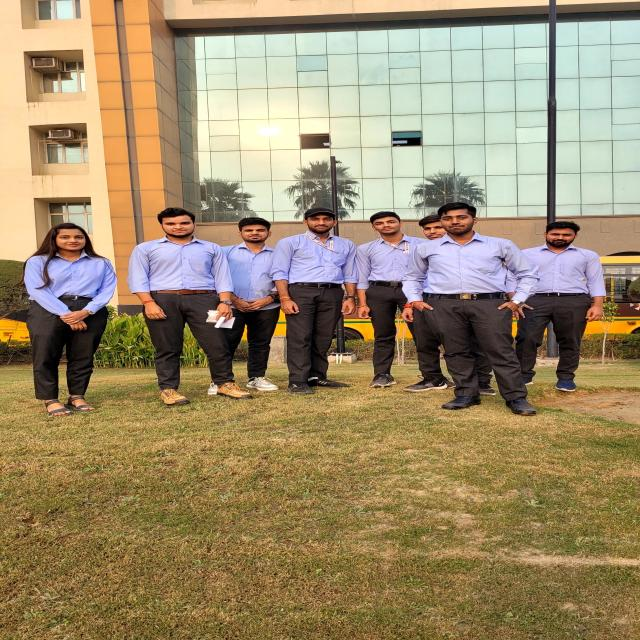unsafe: (406, 202, 538, 415), (126, 207, 254, 406), (24, 222, 117, 413), (276, 208, 358, 394), (521, 221, 608, 392), (354, 211, 430, 389), (223, 216, 281, 392)
